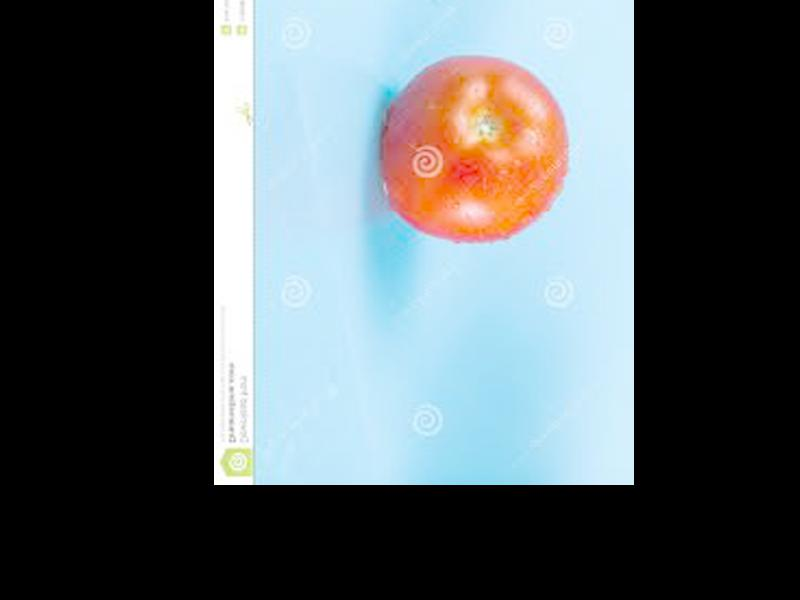Tomato: (383, 52, 568, 243)
